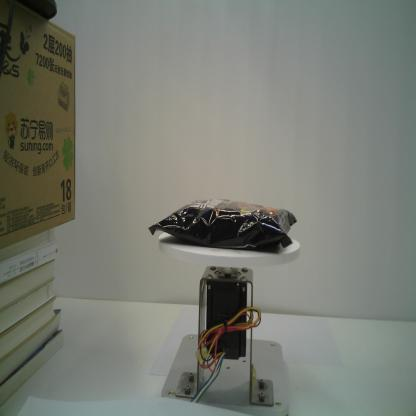Instant Noodles: (148, 198, 298, 250)
